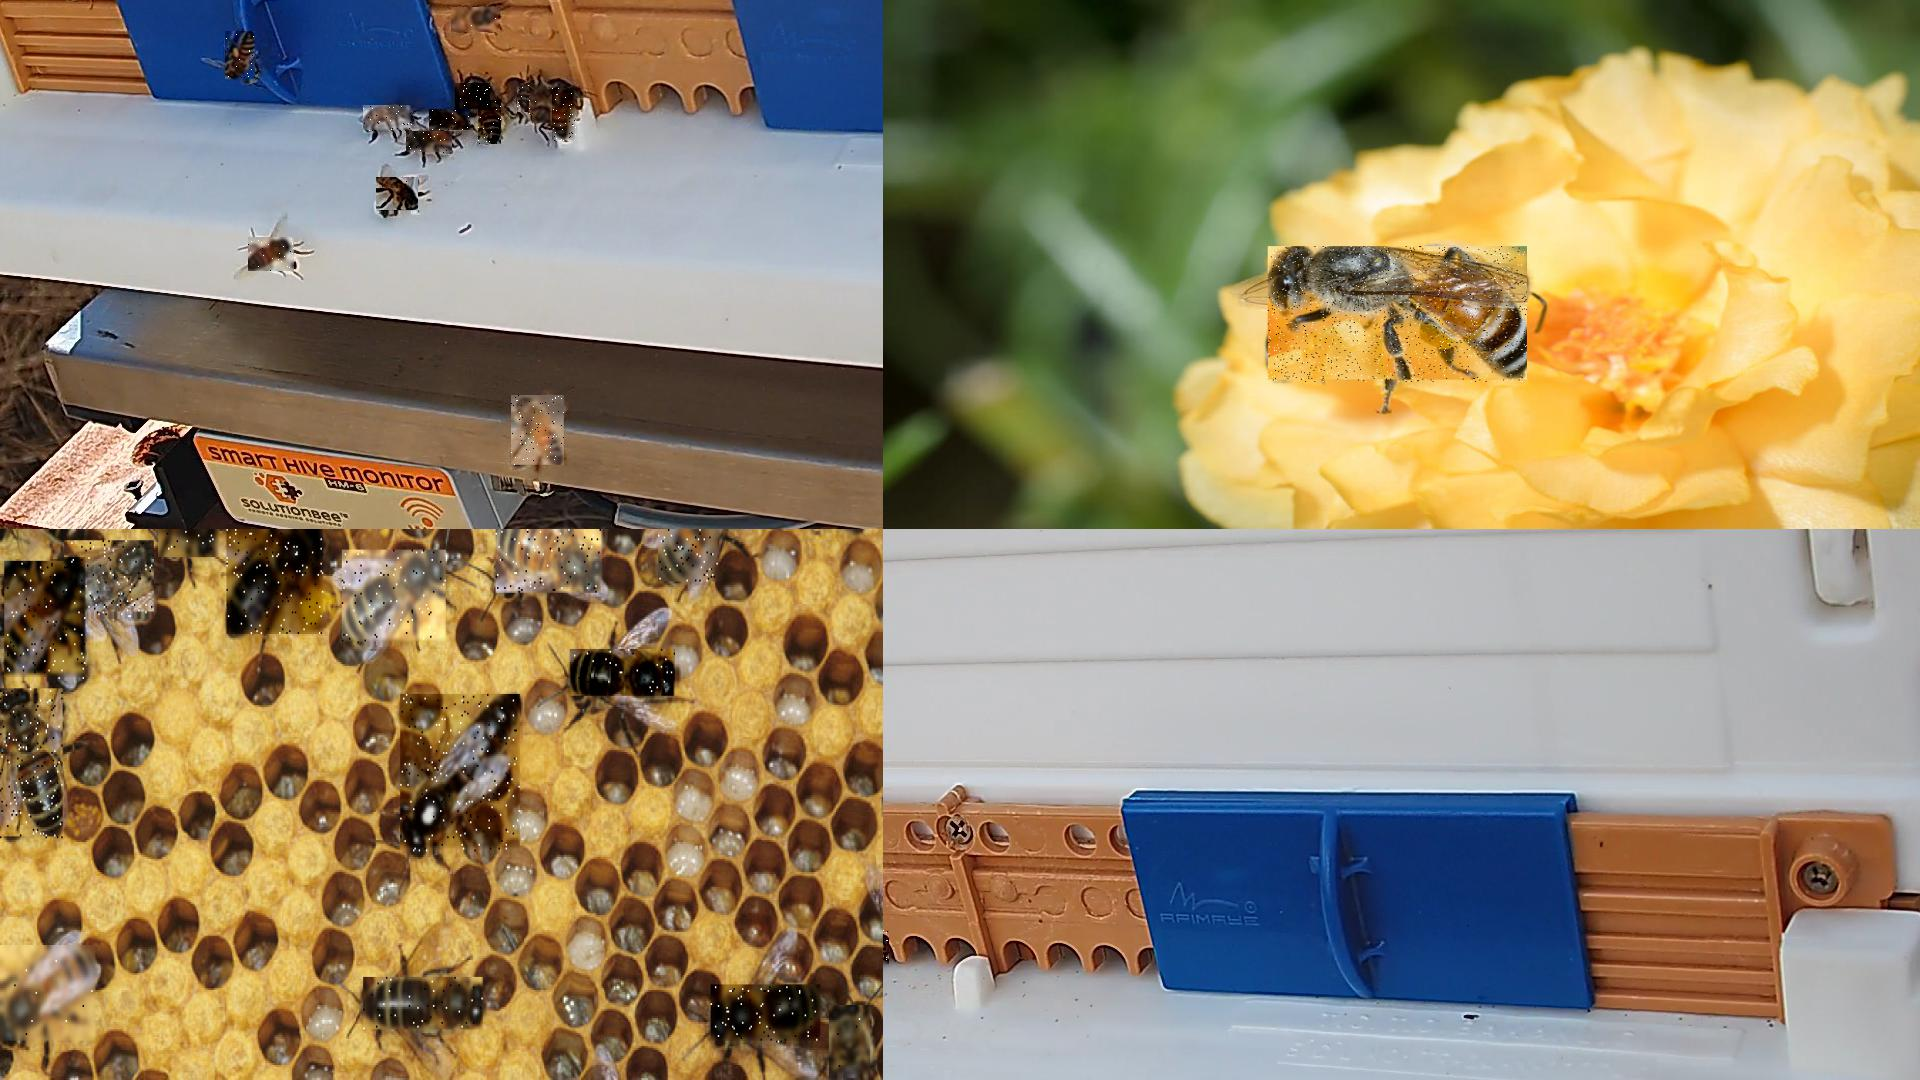bee: (227, 529, 324, 636), (342, 551, 447, 646), (4, 563, 87, 683), (0, 688, 65, 840), (0, 945, 98, 1043), (496, 529, 604, 595), (65, 542, 156, 620), (711, 986, 822, 1046), (364, 977, 484, 1031), (571, 649, 680, 698), (512, 396, 566, 465), (658, 529, 720, 584), (829, 1007, 872, 1079), (160, 529, 223, 559), (249, 237, 297, 272), (376, 178, 419, 215), (364, 105, 414, 133), (553, 88, 578, 142), (452, 7, 501, 33), (479, 100, 502, 145), (406, 132, 454, 154), (455, 83, 491, 109), (430, 109, 473, 131), (533, 90, 551, 124), (518, 84, 534, 117), (884, 930, 891, 967)
pollenbee: (1267, 247, 1528, 384), (225, 32, 256, 84)
queen: (401, 695, 521, 855)
